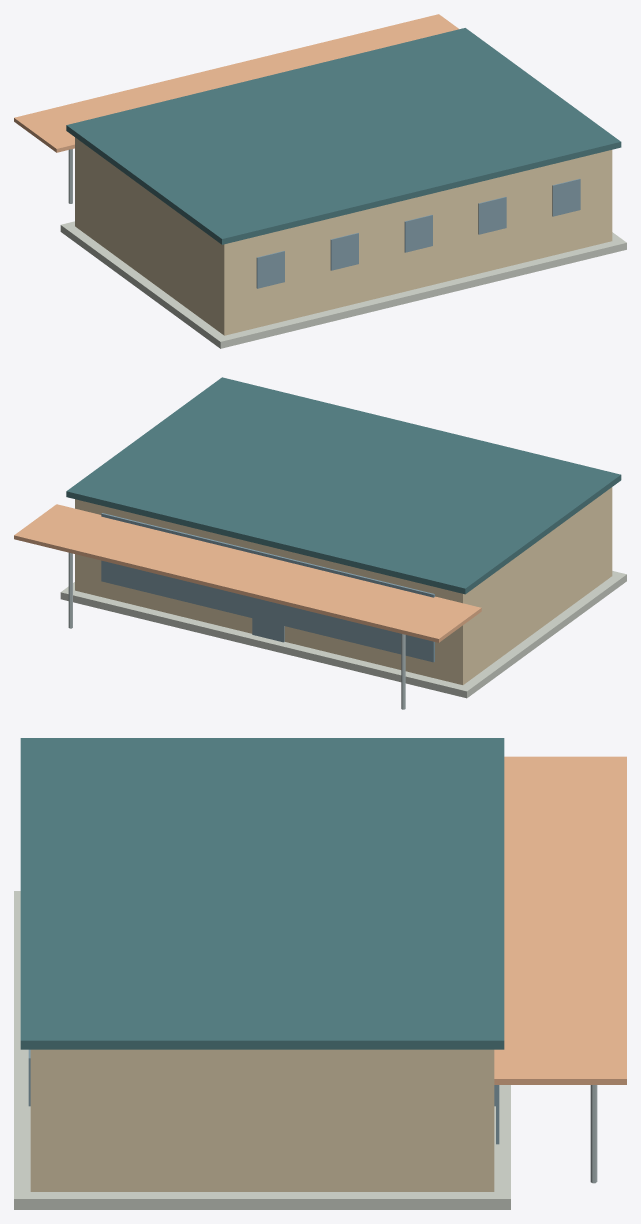
Rendered from tour_terminal.glb.
The picture shows the model from 3 angles, top to bottom: view 1: azimuth 30°, elevation 25°; view 2: azimuth 150°, elevation 25°; view 3: azimuth 270°, elevation 25°; orthographic projection. The views are drawn at different scales.
Parts seen in each view (by area): view 1: tour_terminal__roof, tour_terminal__walls, tour_terminal__terminal_canopy, tour_terminal__plinth, tour_terminal__window.006, tour_terminal__window.002, tour_terminal__window.008, tour_terminal__window.004, tour_terminal__window; view 2: tour_terminal__roof, tour_terminal__walls, tour_terminal__terminal_canopy, tour_terminal__glazed_front, tour_terminal__plinth, tour_terminal__front_door; view 3: tour_terminal__roof, tour_terminal__walls, tour_terminal__terminal_canopy, tour_terminal__plinth, tour_terminal__canopy_pillar.001.
Part boxes in pixels (box(x1,y1,x2,y2)): tour_terminal__roof: box(66, 28, 621, 244); tour_terminal__walls: box(75, 137, 612, 335); tour_terminal__terminal_canopy: box(14, 14, 458, 152); tour_terminal__plinth: box(60, 221, 626, 348); tour_terminal__window.006: box(478, 197, 506, 234); tour_terminal__window.002: box(330, 232, 358, 270); tour_terminal__window.008: box(552, 178, 580, 216); tour_terminal__window.004: box(404, 215, 432, 252); tour_terminal__window: box(256, 251, 284, 288); tour_terminal__roof: box(66, 377, 621, 594); tour_terminal__walls: box(75, 487, 612, 684); tour_terminal__terminal_canopy: box(14, 504, 481, 642); tour_terminal__glazed_front: box(101, 513, 434, 662); tour_terminal__plinth: box(60, 571, 626, 698); tour_terminal__front_door: box(252, 618, 284, 642); tour_terminal__roof: box(20, 738, 504, 1049); tour_terminal__walls: box(30, 1049, 494, 1191); tour_terminal__terminal_canopy: box(494, 756, 626, 1084); tour_terminal__plinth: box(14, 891, 510, 1209); tour_terminal__canopy_pillar.001: box(590, 1085, 597, 1183).
Bounding box in the file's own units: 23 × 5.55 × 18.5.
